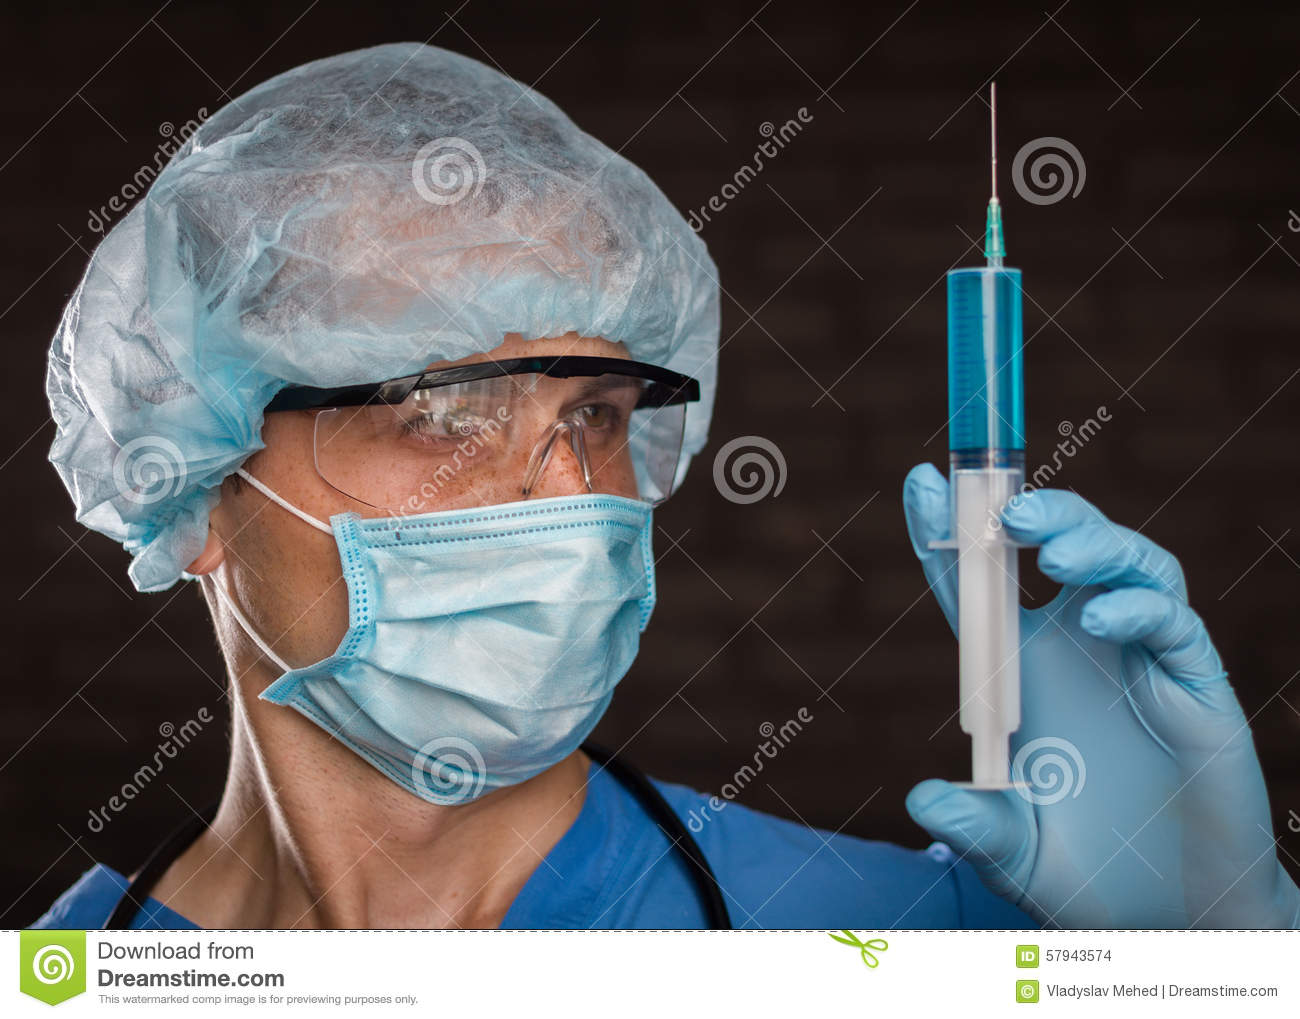mask: (288, 498, 644, 800)
